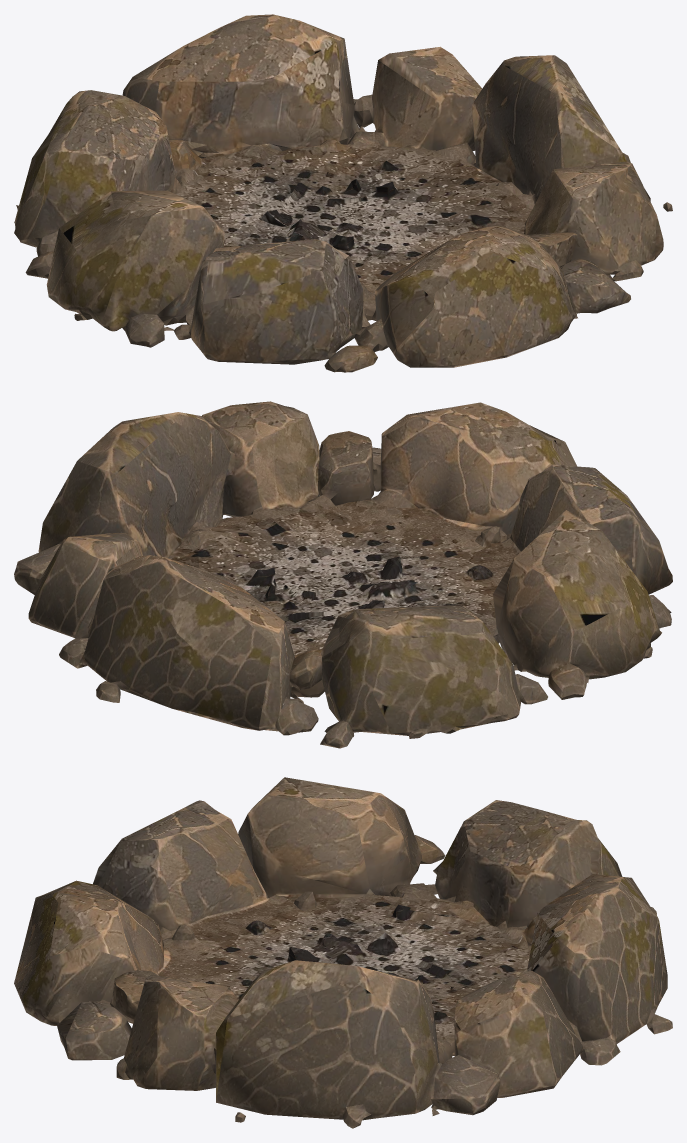
File: fire-ring.glb
The picture shows the model from 3 angles, top to bottom: view 1: azimuth 30°, elevation 25°; view 2: azimuth 150°, elevation 25°; view 3: azimuth 270°, elevation 25°; orthographic projection.
Visible parts, largest first — view 1: Mesh0; view 2: Mesh0; view 3: Mesh0.
Boxes of the visible parts, bbox=[...] form: Mesh0: bbox=[14, 14, 672, 372]; Mesh0: bbox=[14, 401, 672, 748]; Mesh0: bbox=[14, 777, 672, 1128].
Bounding box in the file's own units: 1 × 0.2125 × 0.9835.
1 material, 1 textured.
